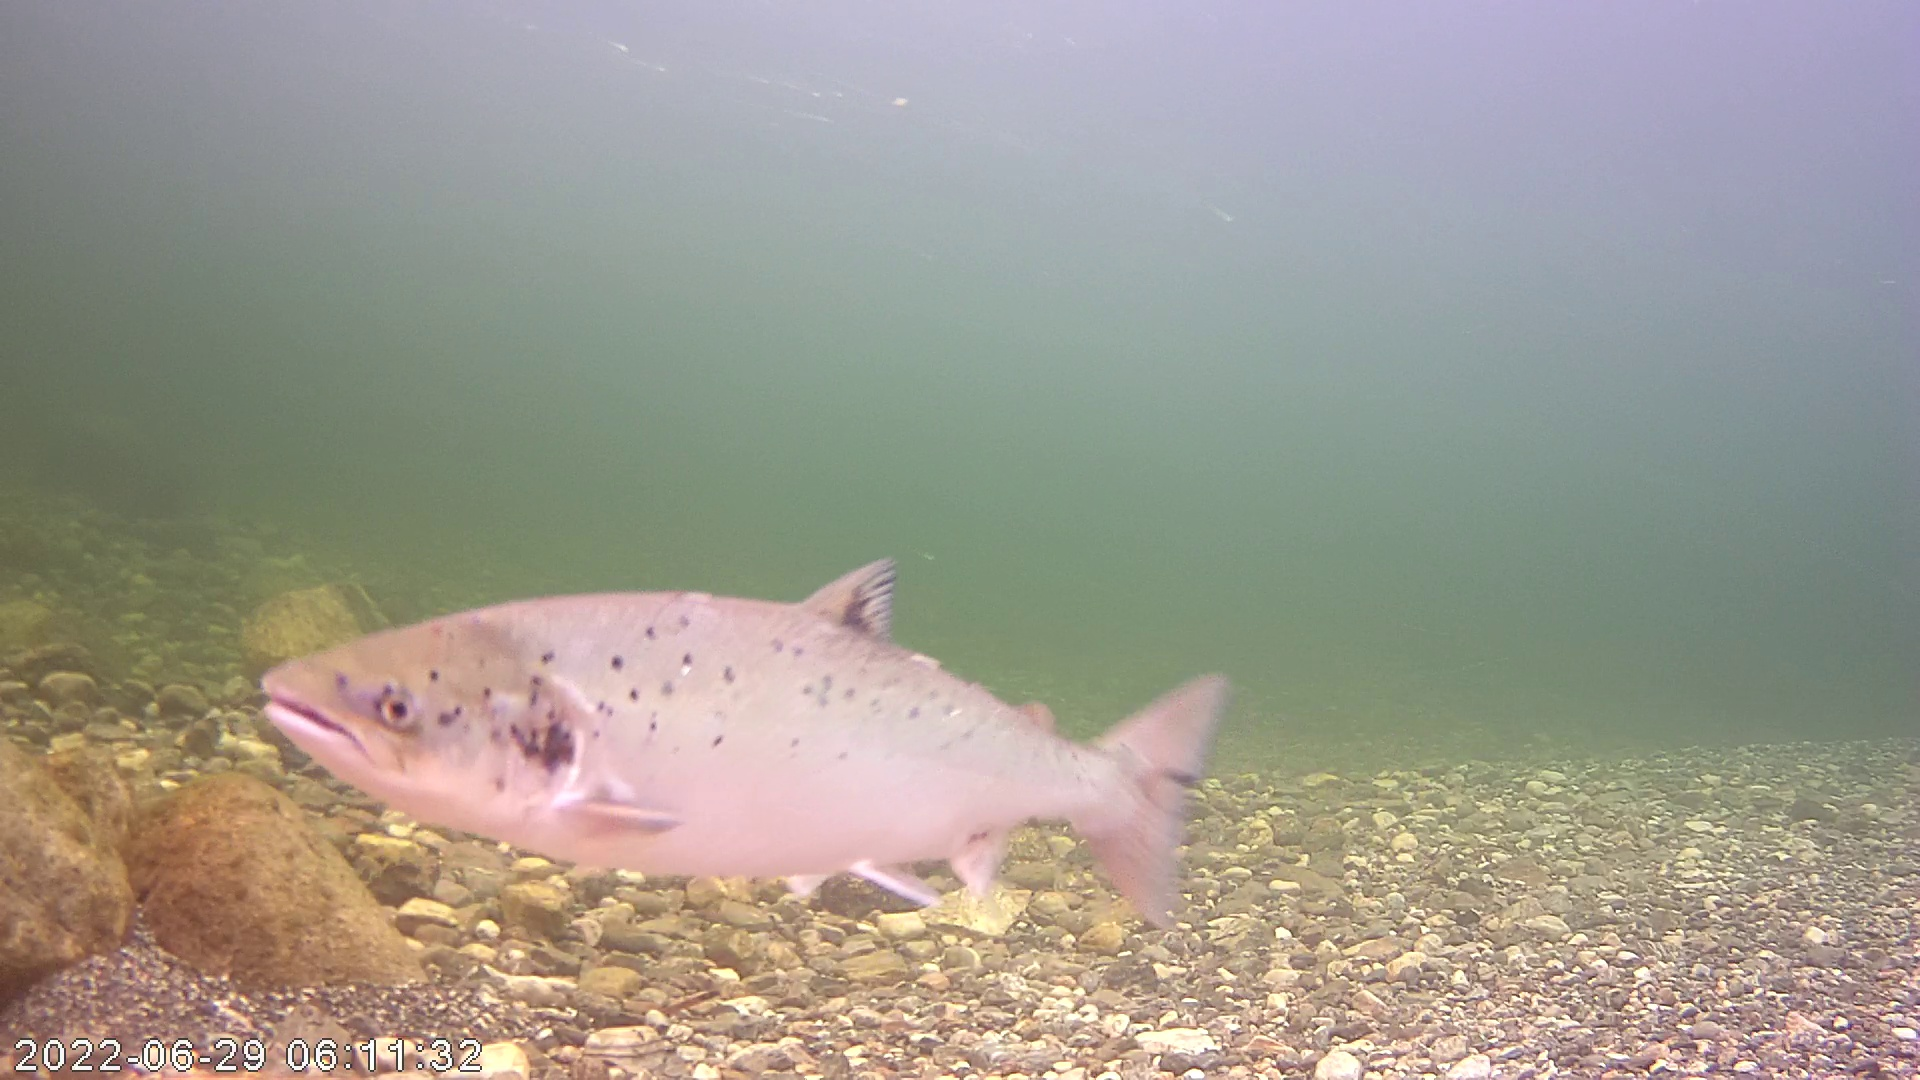salmon: (276, 448, 1240, 928)
